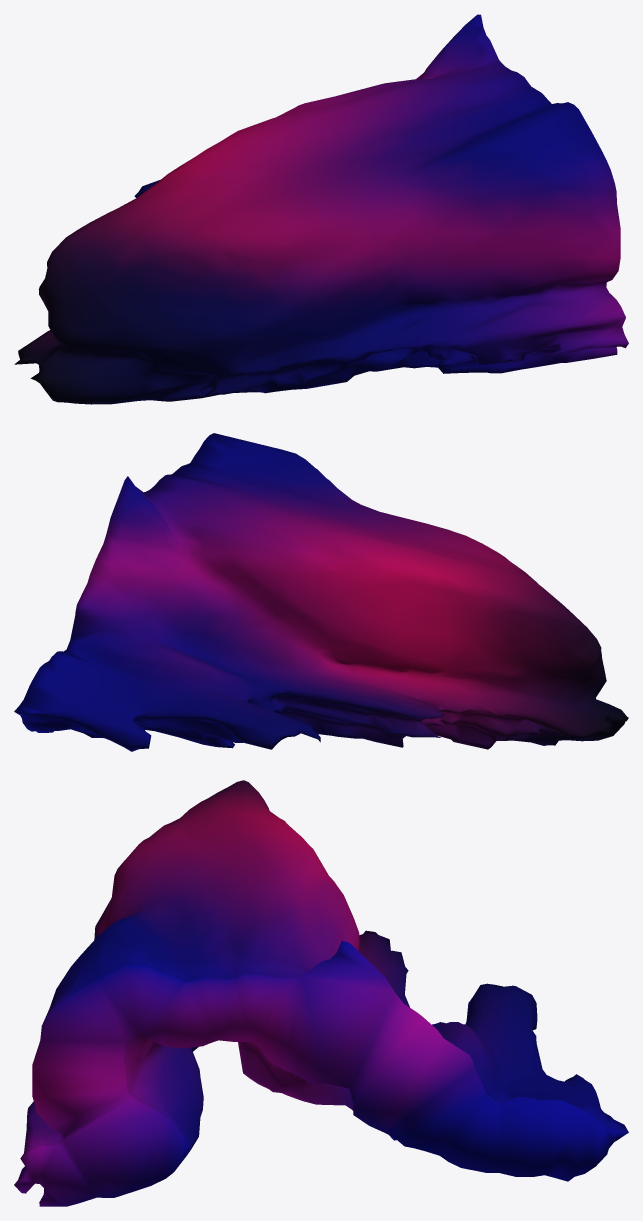
Rendered from iron_vein-u2-cold-lod0.gltf.
3 views of the same model, one above another, from view 1: azimuth 30°, elevation 25°; view 2: azimuth 150°, elevation 25°; view 3: azimuth 270°, elevation 25° (orthographic). The views are drawn at different scales.
Parts seen in each view (by area): view 1: iron_vein-u2-cold-lod0; view 2: iron_vein-u2-cold-lod0; view 3: iron_vein-u2-cold-lod0.
Part boxes in pixels (<box>): iron_vein-u2-cold-lod0: <box>14,14,628,404</box>; iron_vein-u2-cold-lod0: <box>14,433,628,751</box>; iron_vein-u2-cold-lod0: <box>14,780,628,1206</box>.
Size of the model in its own units: 0.6302 by 0.2843 by 0.5949.
